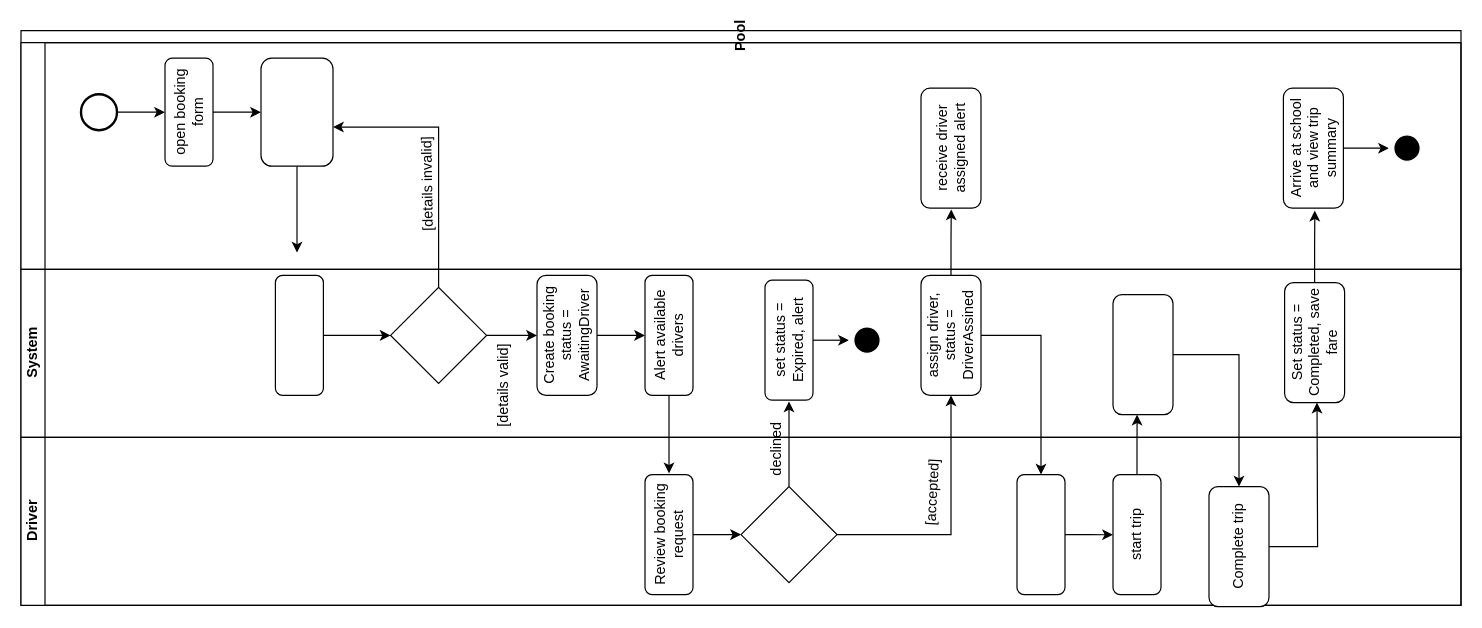
Image size: 1482x628. Some labels were removed from this diagram. The shapes that lost their labels are listed below. From the top down, each one's box as (x1, y1, x2, y2) in pixels, then its label:
(260, 57, 333, 166): Enter pick up point, destination and time
(20, 41, 1461, 269): Student
(274, 274, 323, 395): Validate booking details
(389, 286, 487, 383): Details valid?
(1112, 293, 1173, 415): Set status = InProgess, share driver location
(740, 485, 837, 583): Accept request
(1016, 473, 1065, 595): Drive to pick up piont
